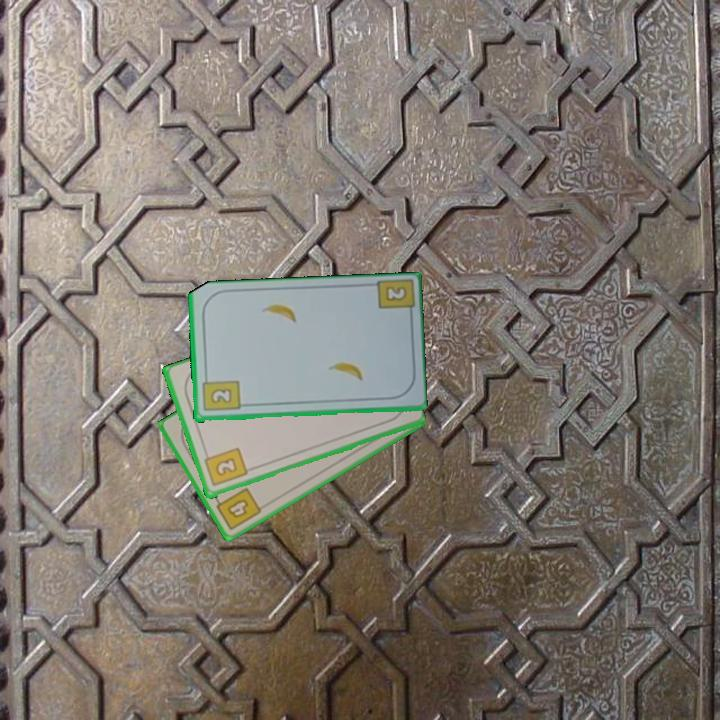2b: (200, 444, 250, 489), (199, 372, 242, 414), (382, 283, 409, 304)
4b: (211, 484, 264, 534)
